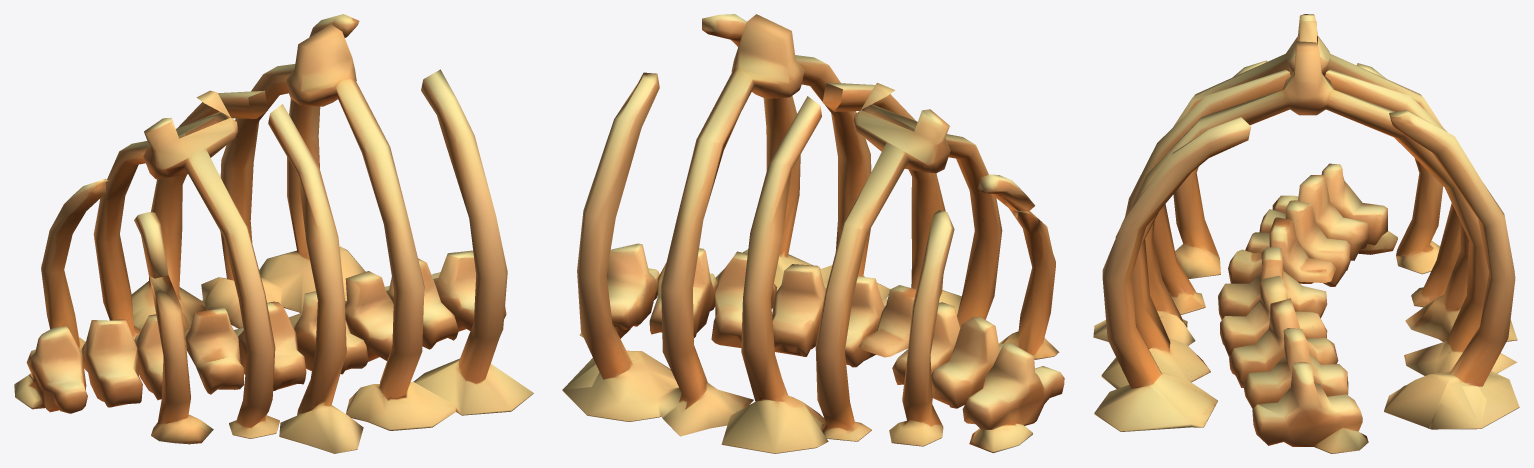
The picture shows the model from 3 angles, left to right: view 1: azimuth 30°, elevation 25°; view 2: azimuth 150°, elevation 25°; view 3: azimuth 270°, elevation 25°; orthographic projection. The views are drawn at different scales.
Parts seen in each view (by area): view 1: tripo_node_0651facd-27c9-429f-b20d-9931f8c2a1fb; view 2: tripo_node_0651facd-27c9-429f-b20d-9931f8c2a1fb; view 3: tripo_node_0651facd-27c9-429f-b20d-9931f8c2a1fb.
Boxes of the visible parts, x1,y1,x2,y2 form: tripo_node_0651facd-27c9-429f-b20d-9931f8c2a1fb: (14, 14, 533, 453); tripo_node_0651facd-27c9-429f-b20d-9931f8c2a1fb: (562, 14, 1064, 453); tripo_node_0651facd-27c9-429f-b20d-9931f8c2a1fb: (1093, 14, 1519, 453).
Bounding box in the file's own units: 1 × 0.7104 × 0.8239.
1 material, 1 textured.
